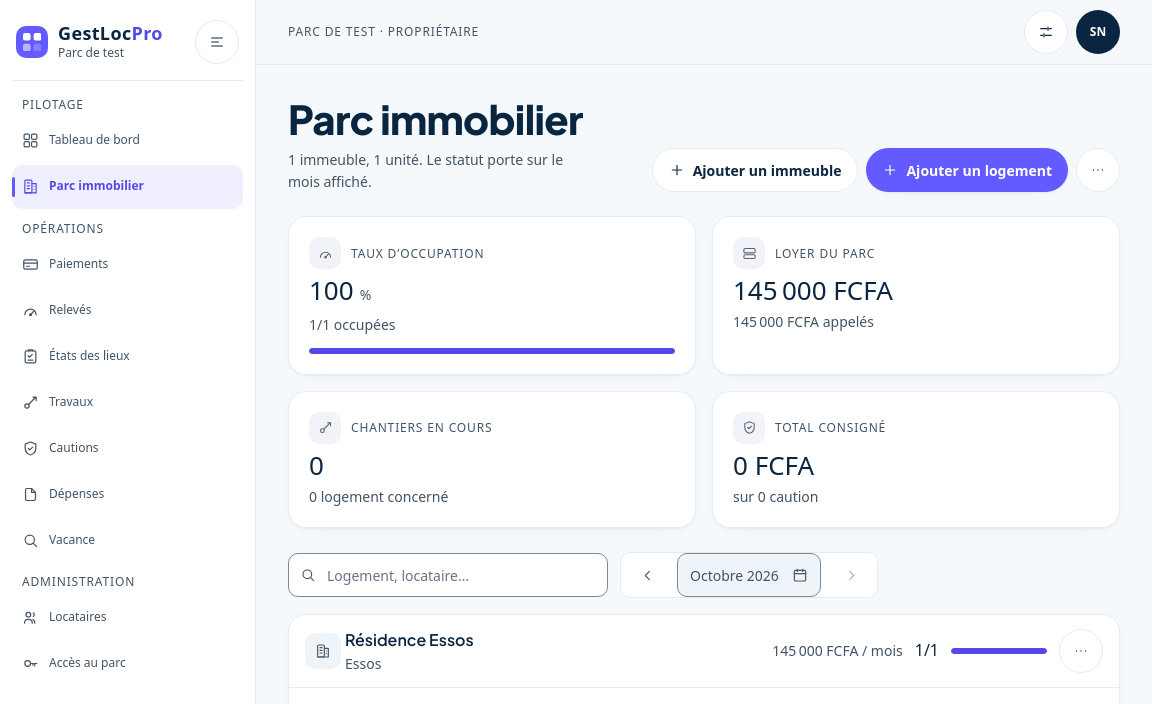
Scenario: la correction d’un immeuble › montre l’attente par aria-busy, pas par un bouton simplement grisé
This screenshot has width=1152, height=704.
Click the button named "Autres actions" at (1098, 170), box [1076,148,1120,192]
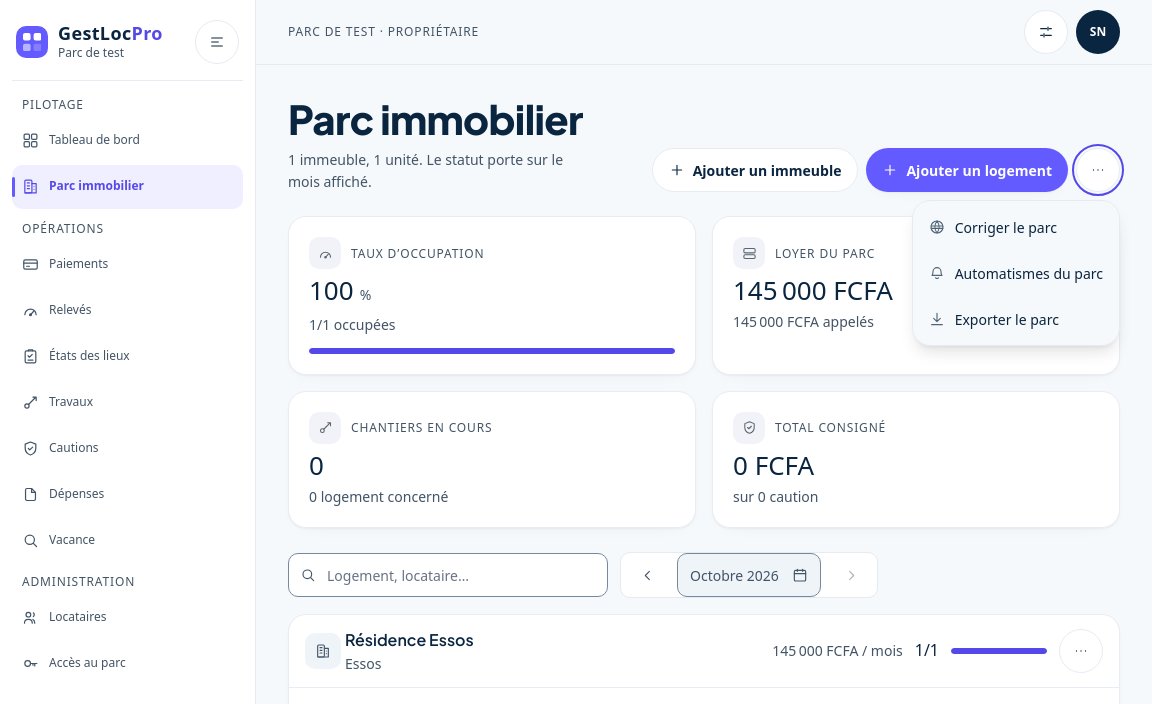
Press Escape
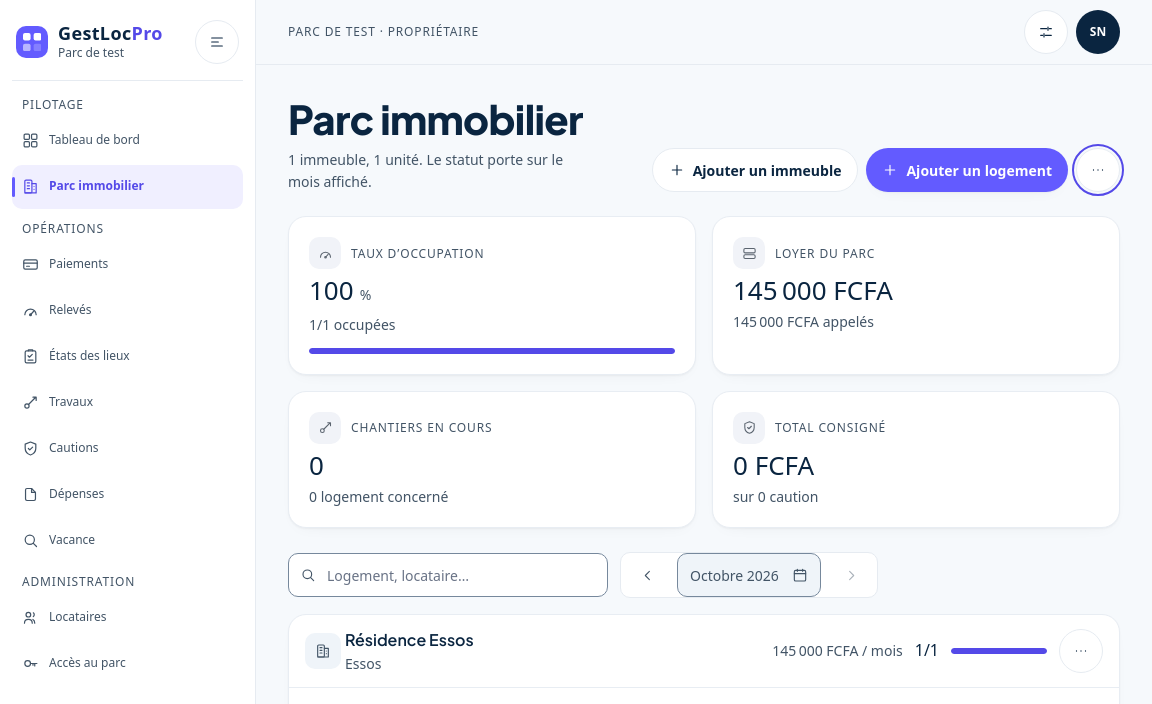
Click the button named "Actions de l’immeuble Résidence Essos" at (1081, 651), box [1059,629,1103,673]
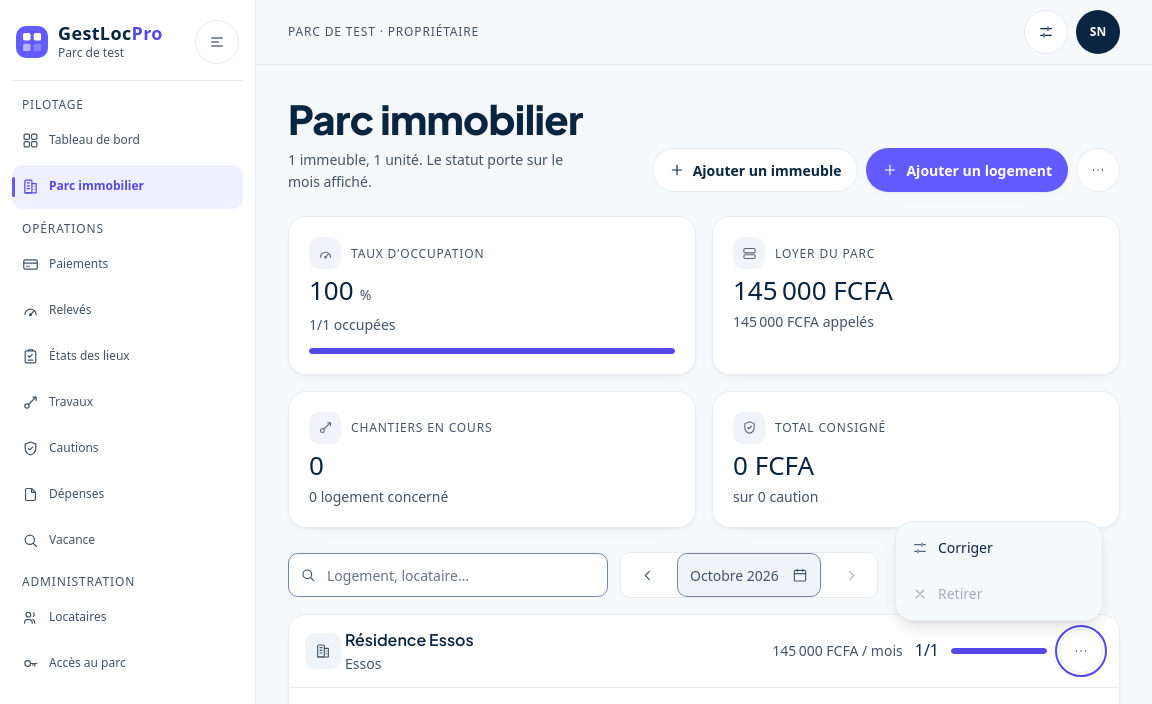
Click the menu item with aria-label "Corriger l’immeuble" at (999, 548), box [900,526,1098,570]
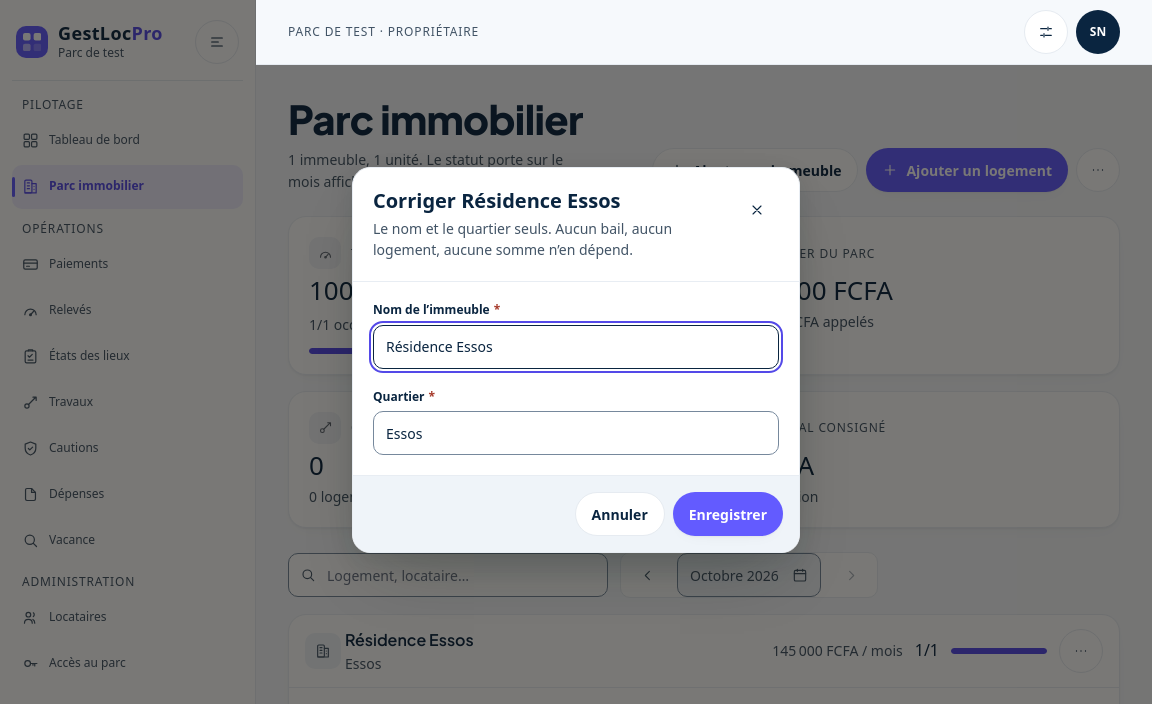
Type " II" into the field labelled "Nom de l’immeuble*" at (576, 347), box [373,325,779,369]
Click the button "Enregistrer" at (728, 514), box [673,492,783,536]
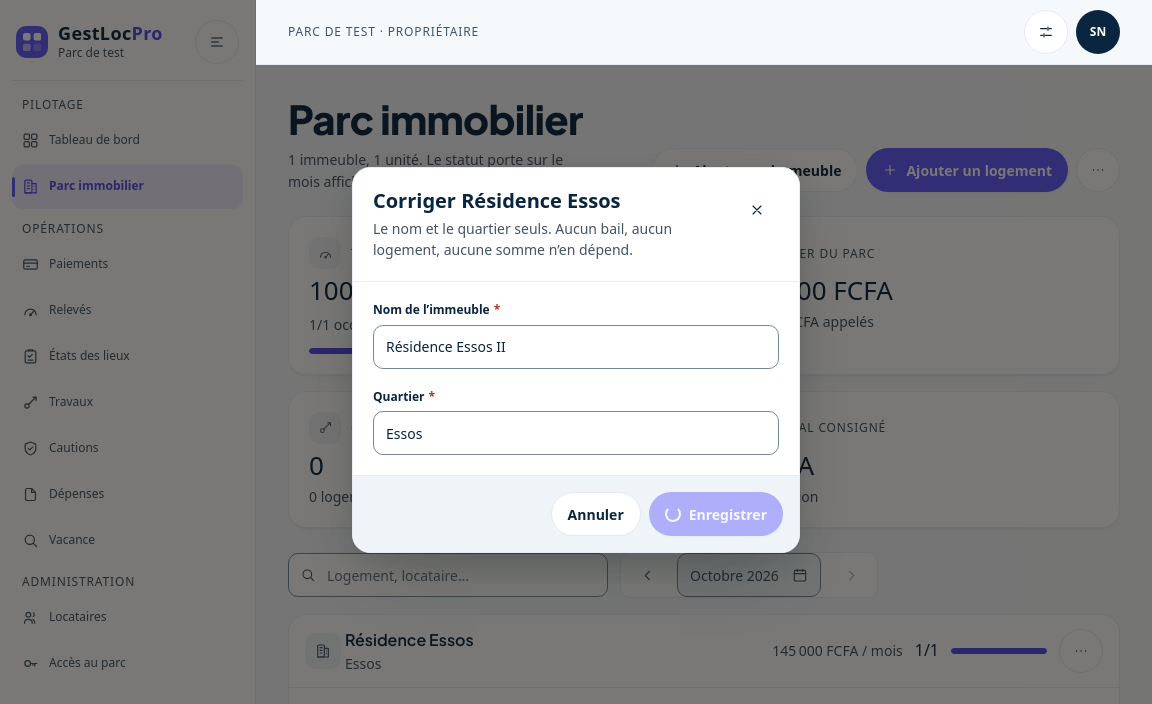
Expected: the dialog is shown, [352,166,800,554]
Click the button "Enregistrer" at (716, 514), box [649,492,783,536]
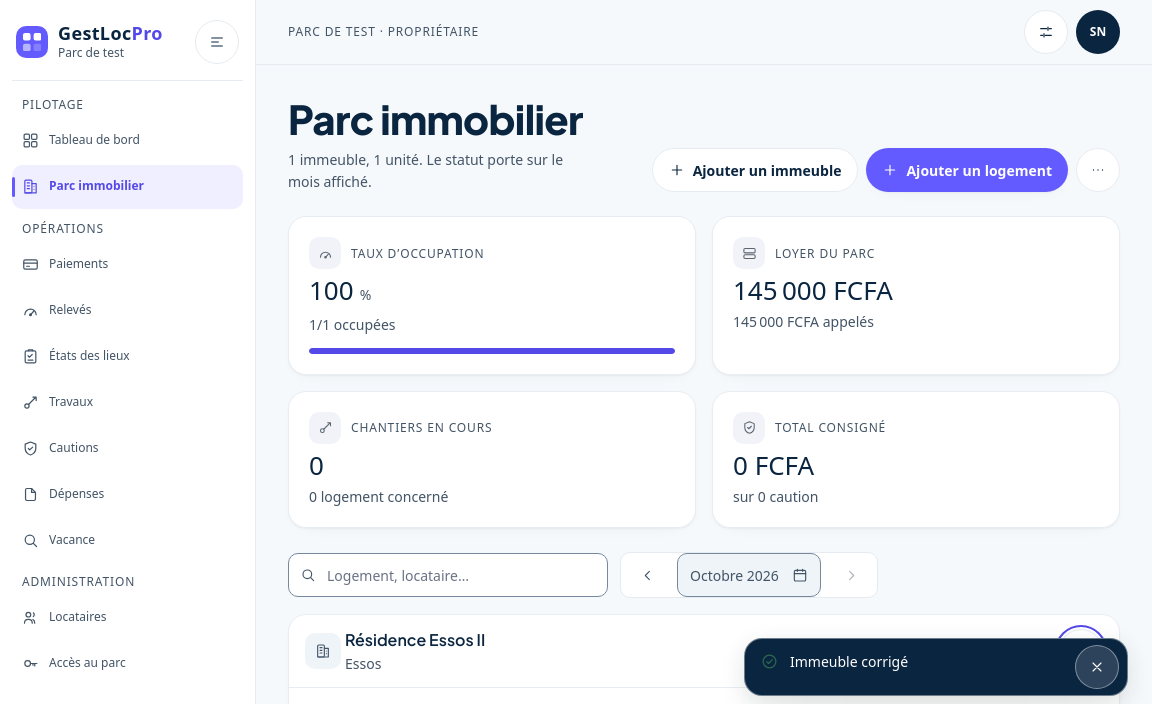
Expected: the dialog is gone
